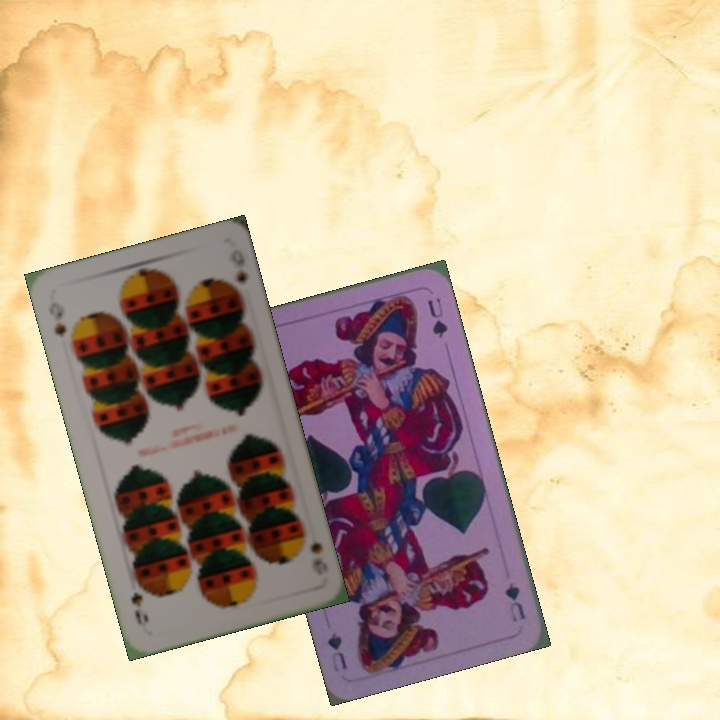GU: (501, 578, 528, 625)
S9: (45, 298, 69, 340), (296, 525, 326, 557)
